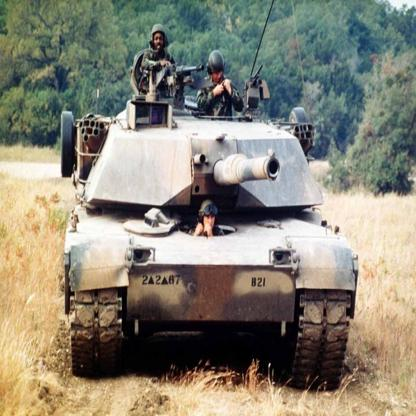Tank: (52, 47, 364, 395)
